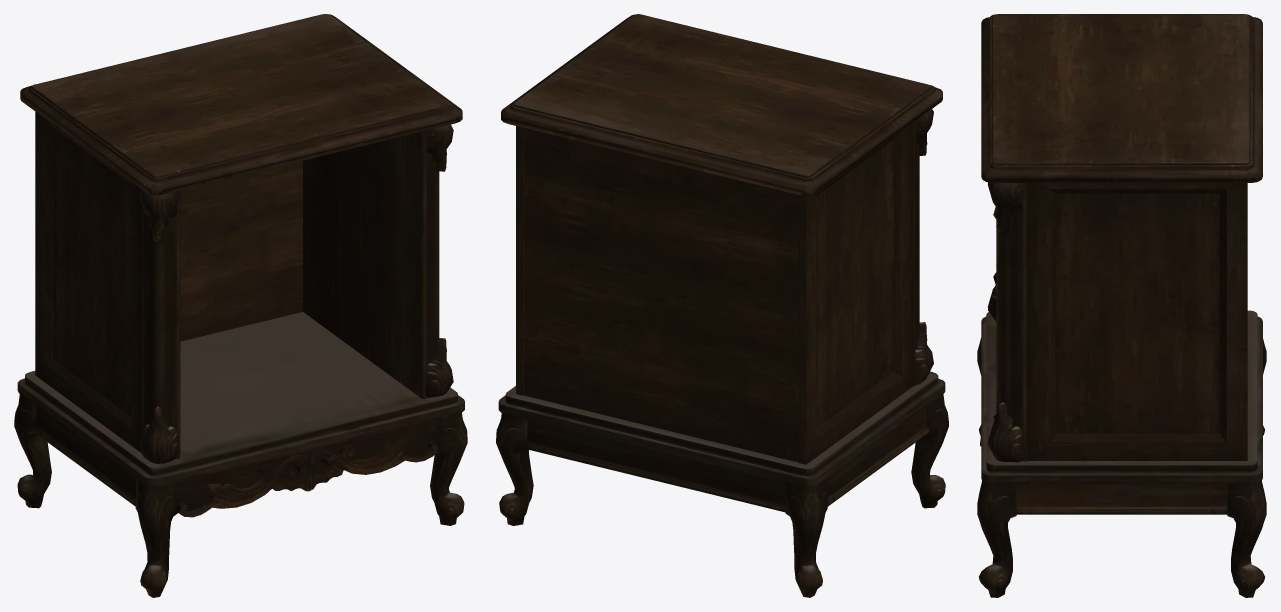
Rendered from ClassicNightstand_01.glb.
3 views of the same model, side by side, from view 1: azimuth 30°, elevation 25°; view 2: azimuth 150°, elevation 25°; view 3: azimuth 270°, elevation 25° (orthographic). The views are drawn at different scales.
Parts seen in each view (by area): view 1: ClassicNightstand_01; view 2: ClassicNightstand_01; view 3: ClassicNightstand_01.
Part boxes in pixels (box(x1,y1,x2,y2)): ClassicNightstand_01: box(14, 14, 467, 597); ClassicNightstand_01: box(496, 14, 948, 597); ClassicNightstand_01: box(977, 14, 1266, 597).
Size of the model in its own units: 0.5678 by 0.7 by 0.4242.
Materials: 1 (1 with a texture image).
